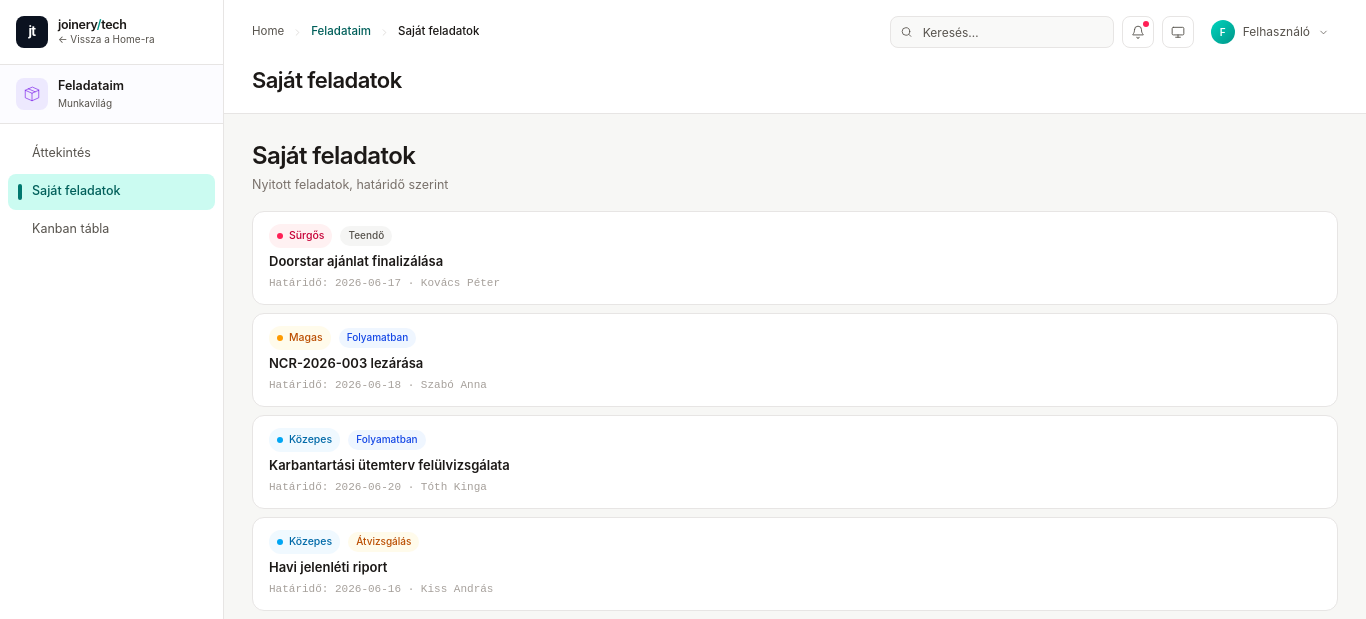
TasksPage › clicking task opens detail SlideOver
Click the text "Doorstar ajánlat finalizálása".
click(356, 261)  # box [269,253,443,269]
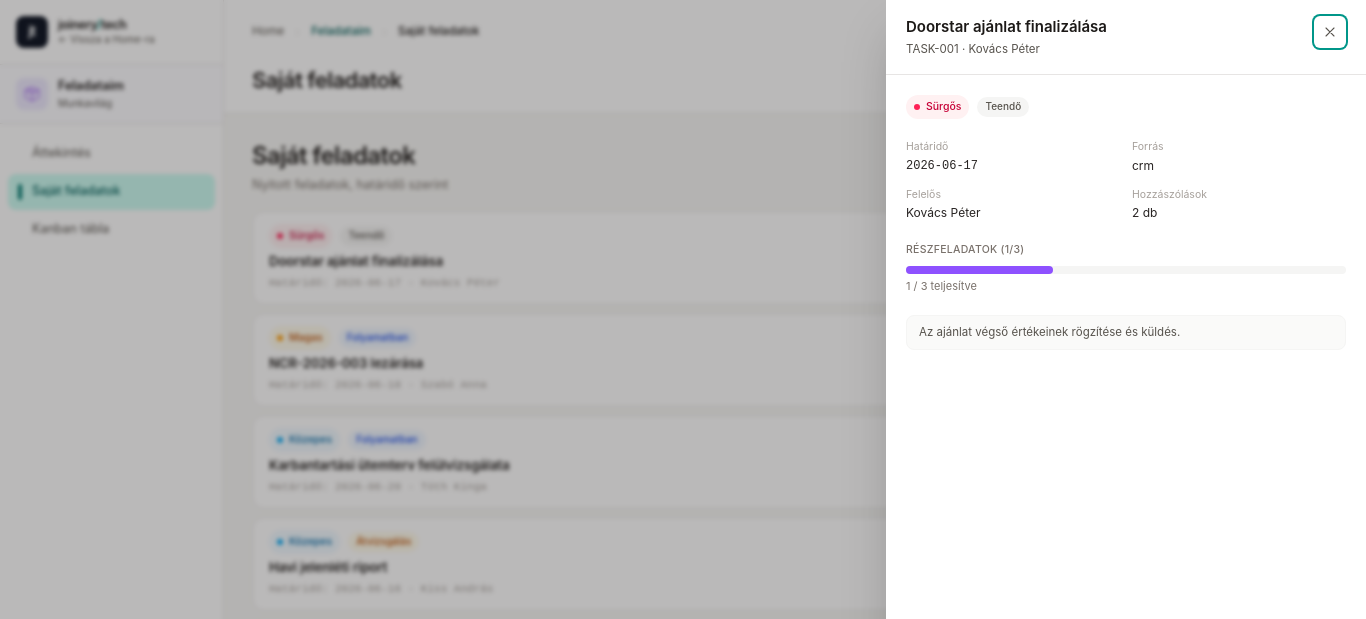
Check: the text "TASK-001 · Kovács Péter" is shown, box [906,42,1040,56]
